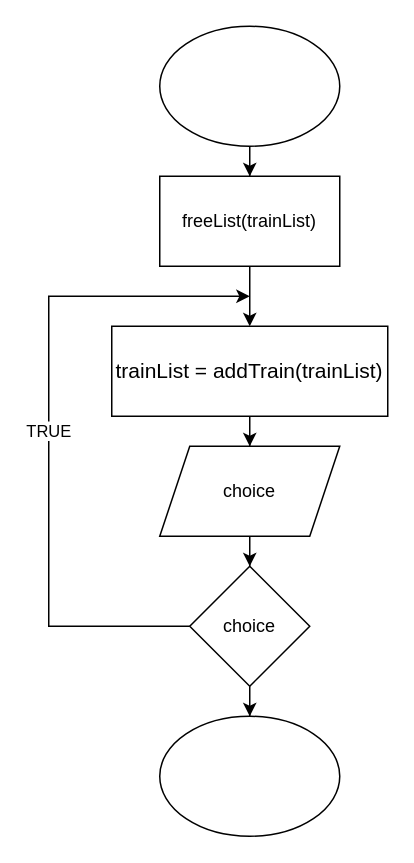
Image size: 414x863. Some labels were removed from this diagram. The shapes that lost their labels are listed below. From the top down, each one's box as (x1, y1, x2, y2) in pixels, then its label:
(158, 25, 340, 146): Начало makeList
(158, 715, 340, 836): Конец
